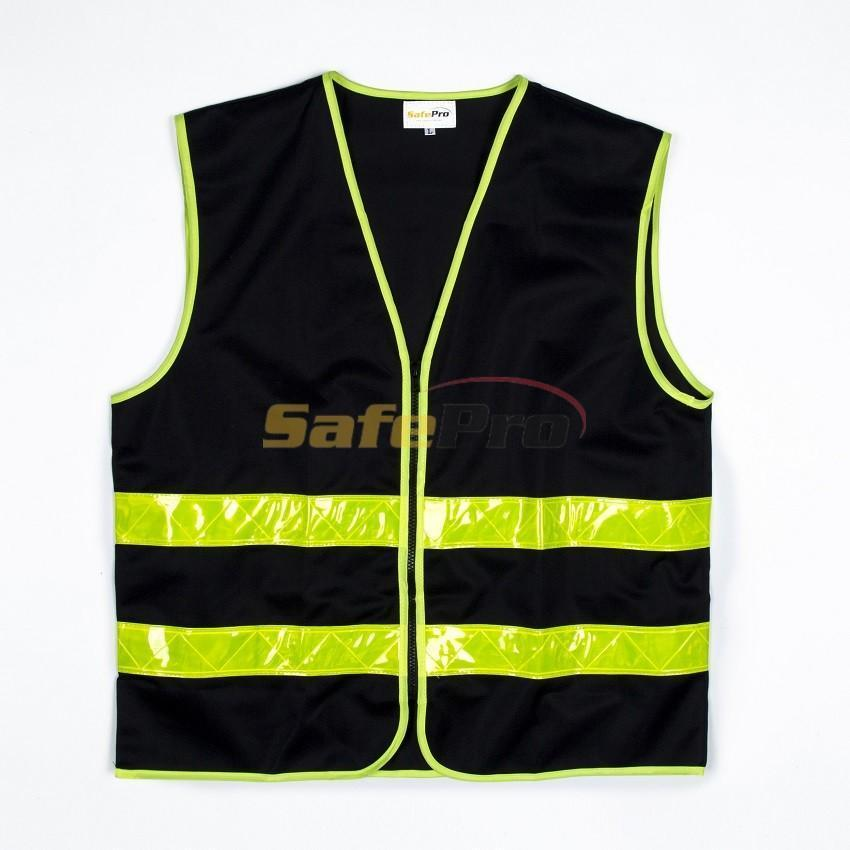vest: (109, 68, 714, 777)
